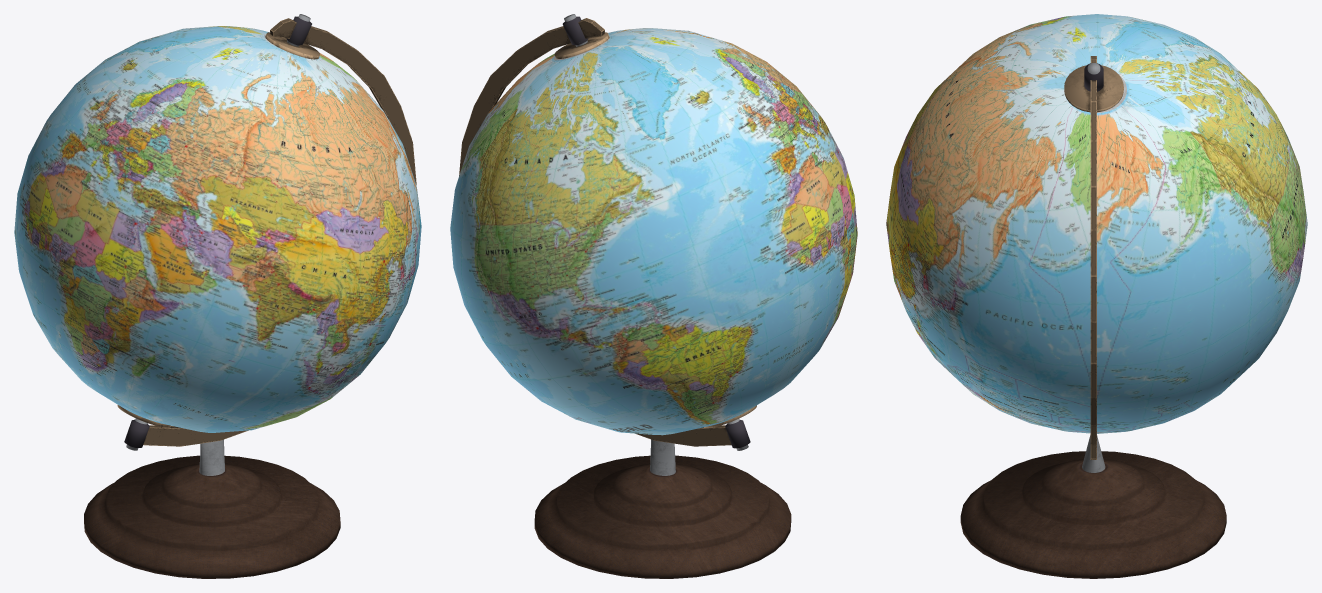
The model's file is globe.glb.
The picture shows the model from 3 angles, left to right: view 1: azimuth 30°, elevation 25°; view 2: azimuth 150°, elevation 25°; view 3: azimuth 270°, elevation 25°; orthographic projection. The views are drawn at different scales.
Visible parts, largest first — view 1: Cylinder; view 2: Cylinder; view 3: Cylinder.
Part boxes in pixels (bbox=[...]): Cylinder: bbox=[14, 14, 421, 578]; Cylinder: bbox=[450, 14, 857, 578]; Cylinder: bbox=[886, 14, 1307, 578].
Bounding box in the file's own units: 322 × 404 × 306.
1 material, 1 textured.
